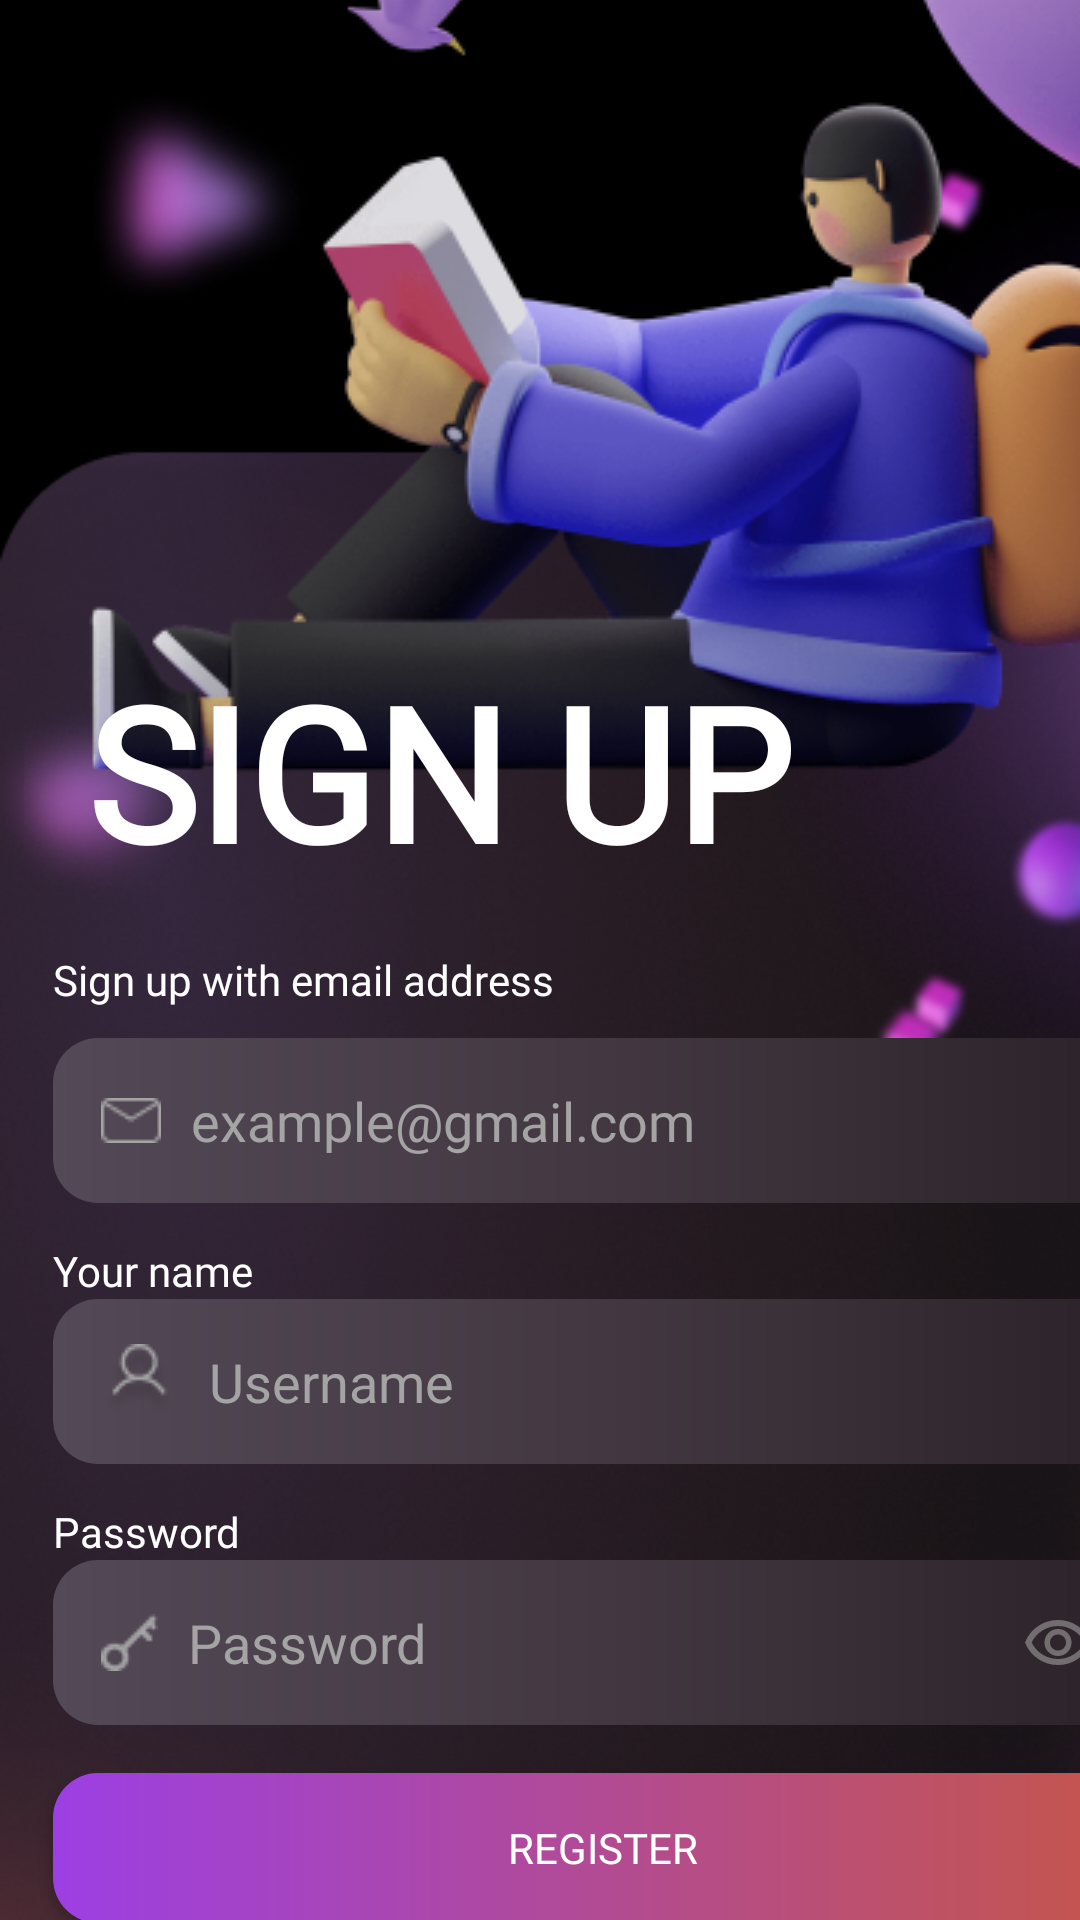

Screen size 1080 x 1920. Icon name, then its center in pixels as (x=x, y=y):
front shapes two: (x=936, y=951)
